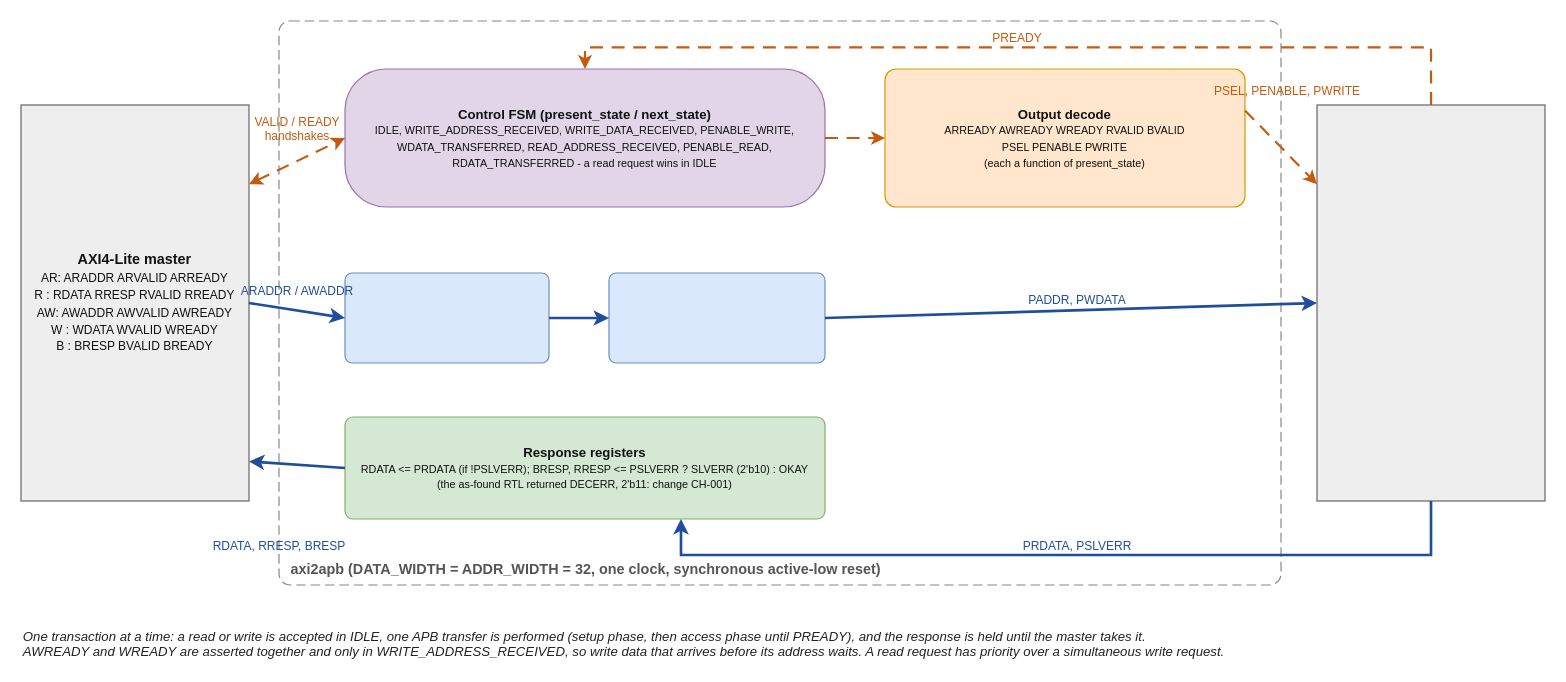
Some shapes in this 1566 by 682 pixel diagram are drawn without their labels. The centre of each missing label's shape, as x and y in pixels:
"APB3 slave PADDR PSEL PENABLE PWRITE PWDATA PREADY PRDATA PSLVERR" goes at (1430,302).
"PADDR / PWDATA regs loaded when W is accepted or a read starts" goes at (716,317).
"sampled_addr ARADDR or AWADDR, latched in IDLE" goes at (446,317).
